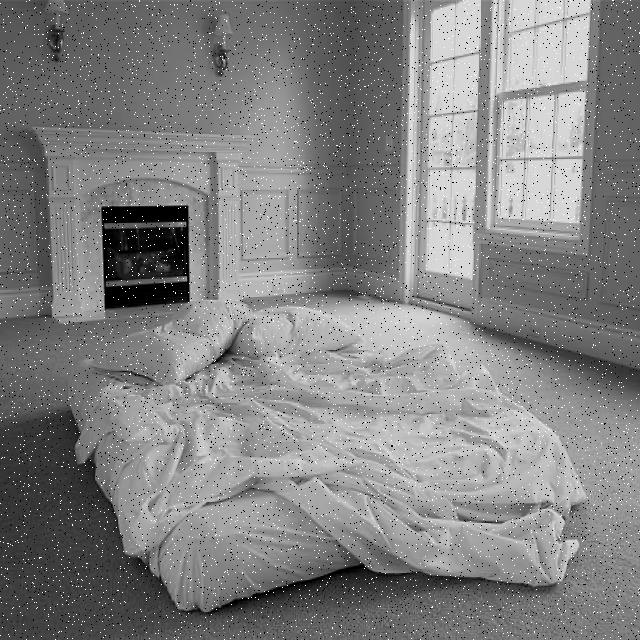bed: (83, 301, 560, 601)
